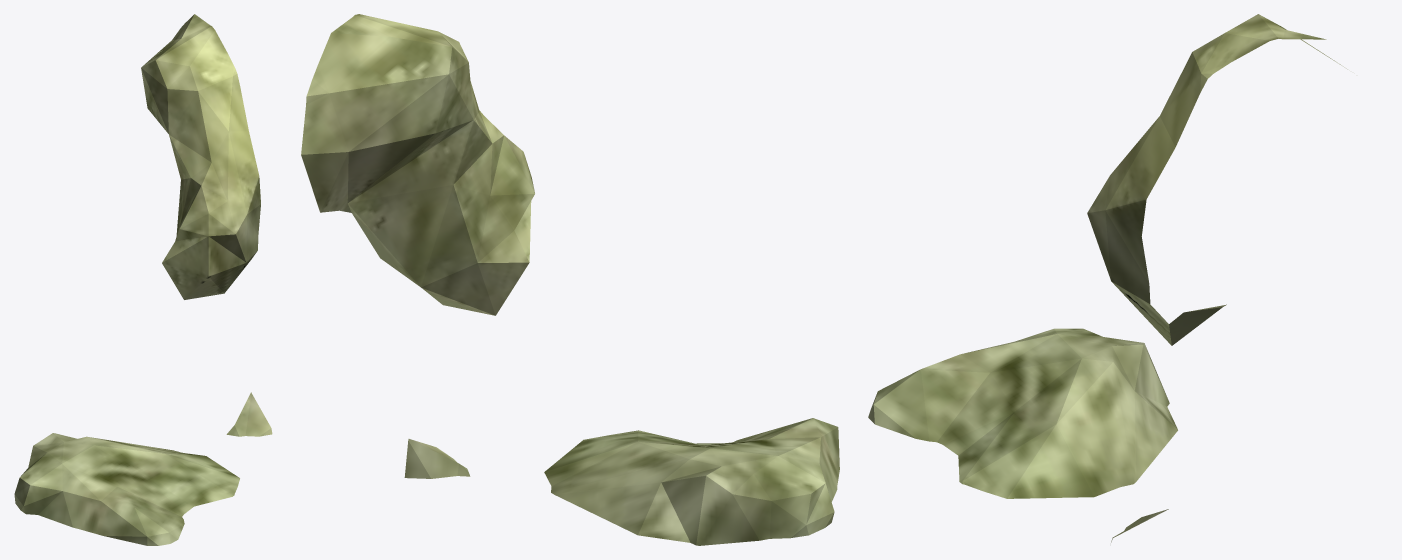
3 views of the same model, side by side, from view 1: azimuth 30°, elevation 25°; view 2: azimuth 150°, elevation 25°; view 3: azimuth 270°, elevation 25° (orthographic). The views are drawn at different scales.
Bounding box in the file's own units: 1.15 × 1.49 × 1.38.
Materials: 1 (1 with a texture image).
